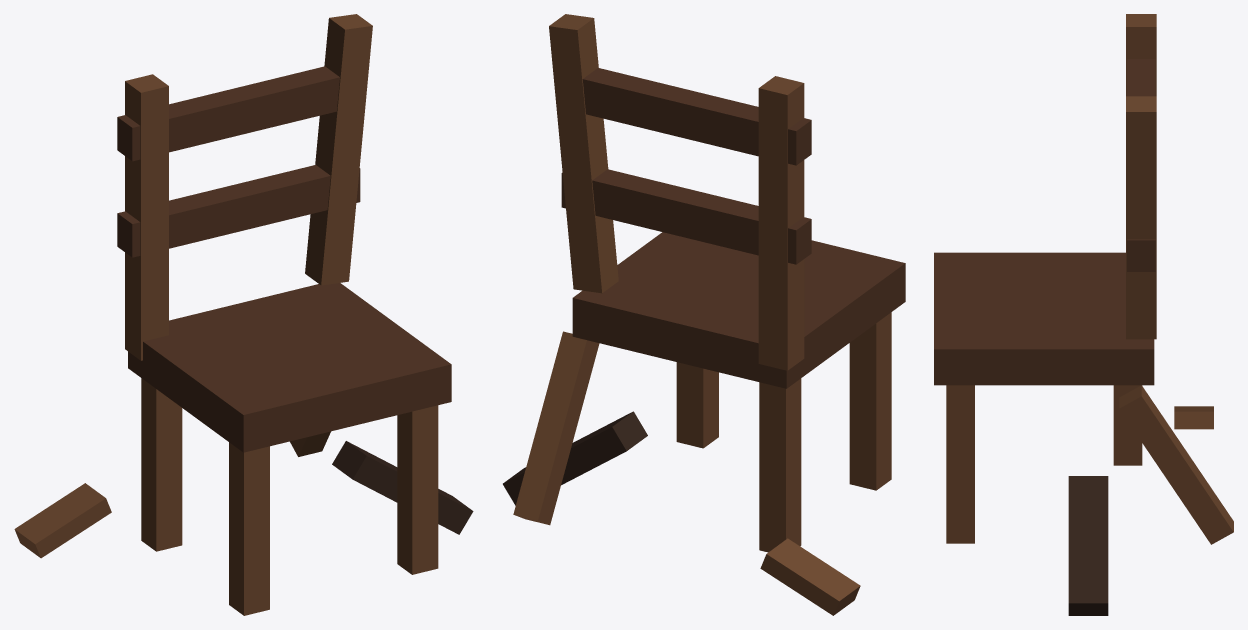
File: Broken_Dining_Chair.obj
3 views of the same model, side by side, from view 1: azimuth 30°, elevation 25°; view 2: azimuth 150°, elevation 25°; view 3: azimuth 270°, elevation 25° (orthographic). The views are drawn at different scales.
Bounding box in the file's own units: 0.9568 × 1.2 × 0.6801.
